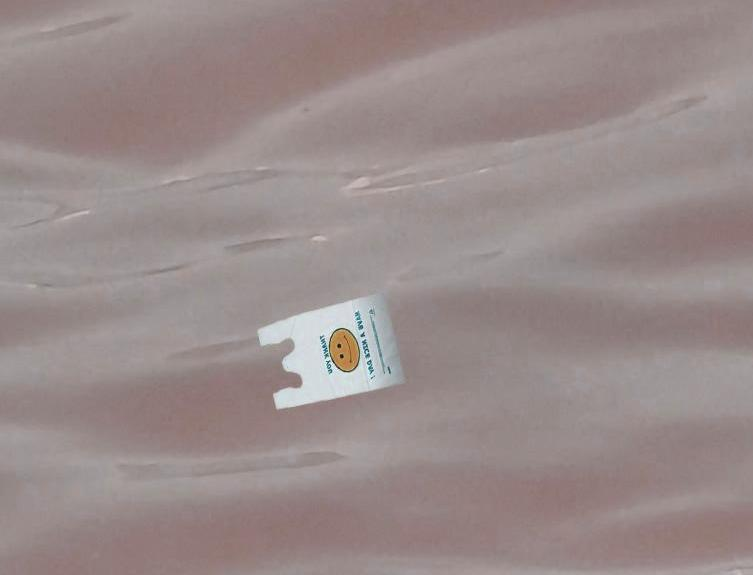Trash: (254, 289, 413, 413)
